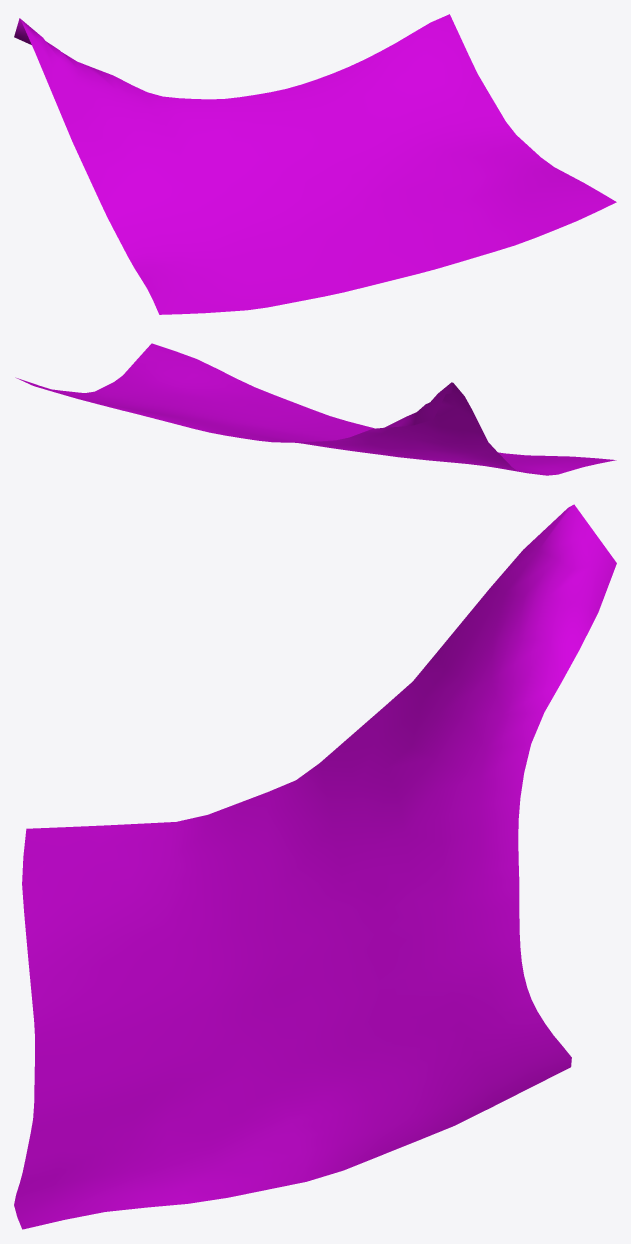
The model's file is SM_Draps.fbx.
3 renders of one model, top to bottom at view 1: azimuth 30°, elevation 25°; view 2: azimuth 150°, elevation 25°; view 3: azimuth 270°, elevation 25°, orthographic. The views are drawn at different scales.
Parts seen in each view (by area): view 1: Object001; view 2: Object001; view 3: Object001.
Part boxes in pixels (x1,y1,x2,y2): Object001: (14, 14, 616, 314); Object001: (15, 343, 616, 475); Object001: (14, 504, 616, 1229).
Size of the model in its own units: 472 by 206 by 297.
